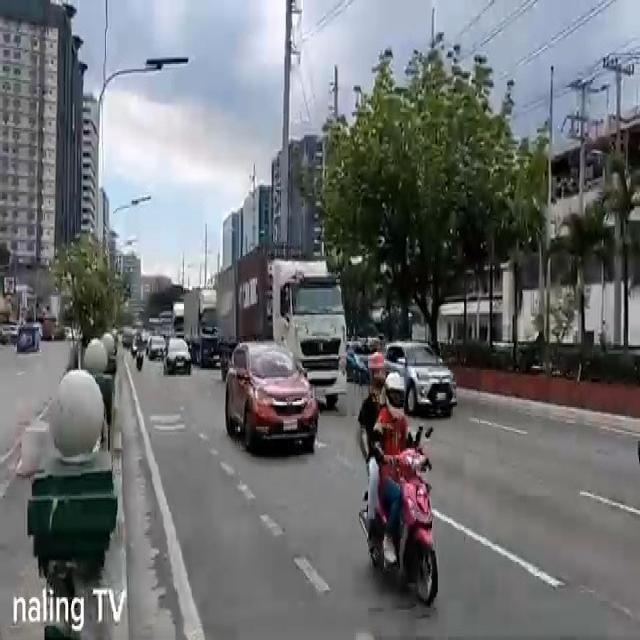car: (223, 340, 320, 459), (382, 338, 458, 420)
motorcycle: (361, 378, 442, 604)
truck: (217, 237, 346, 409), (182, 284, 220, 367)
